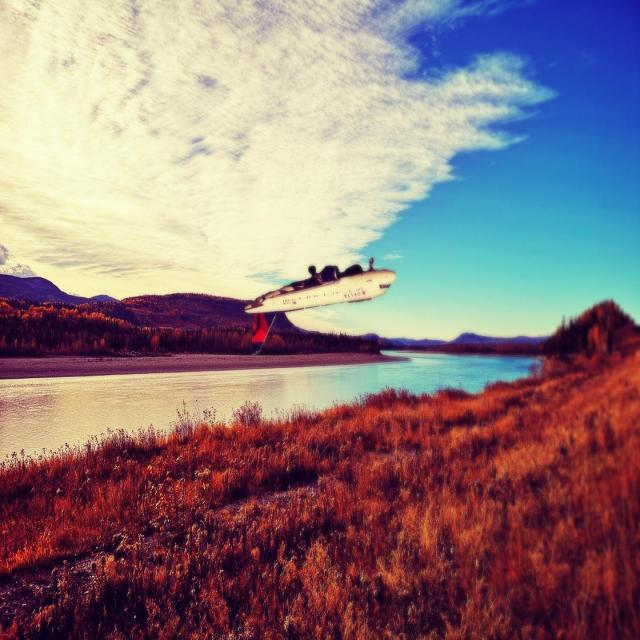airplane: (243, 256, 396, 354)
